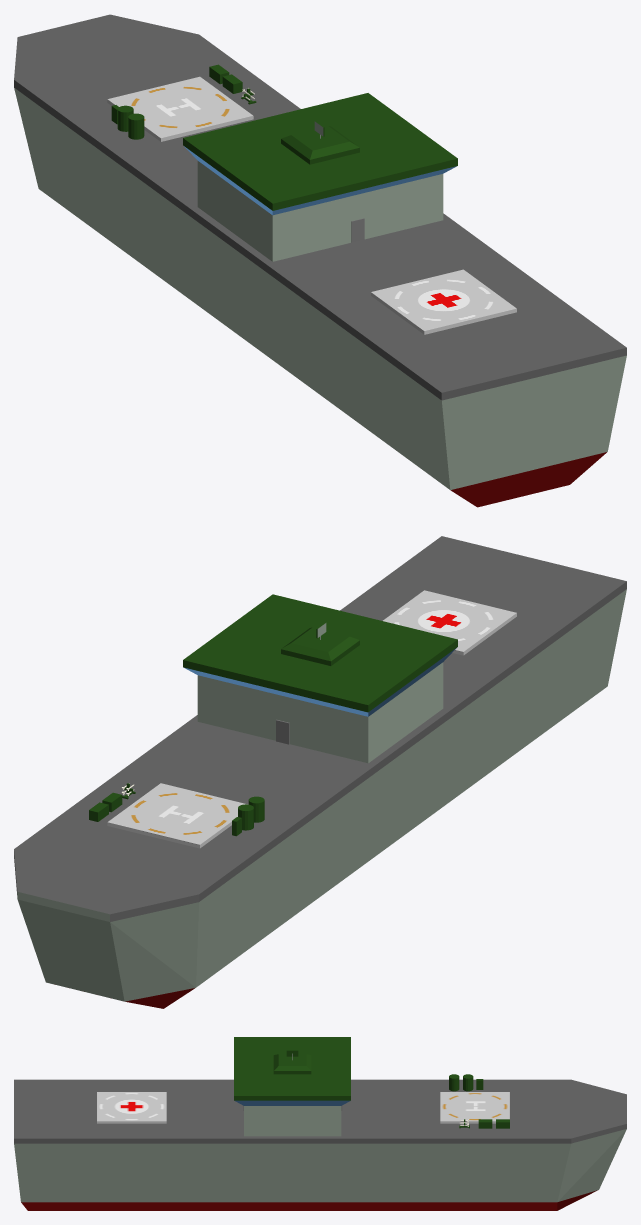
Rendered from carrier_1.glb.
3 renders of one model, top to bottom at view 1: azimuth 30°, elevation 25°; view 2: azimuth 150°, elevation 25°; view 3: azimuth 270°, elevation 25°, orthographic. The views are drawn at different scales.
Visible parts, largest first — view 1: base (×3), head, Cube; view 2: base (×3), head, Cube; view 3: base (×3), head, Cube.
Boxes of the visible parts, box(x1,y1,x2,y2) form: base (×3): box(14, 14, 626, 507); head: box(183, 93, 457, 261); Cube: box(281, 126, 359, 164); base (×3): box(14, 536, 626, 1008); head: box(183, 594, 457, 763); Cube: box(281, 627, 359, 665); base (×3): box(14, 1079, 626, 1210); head: box(234, 1037, 350, 1136); Cube: box(273, 1054, 311, 1074).
Bounding box in the file's own units: 2 × 2.31 × 8.8.
Materials: 11 (2 with a texture image).
